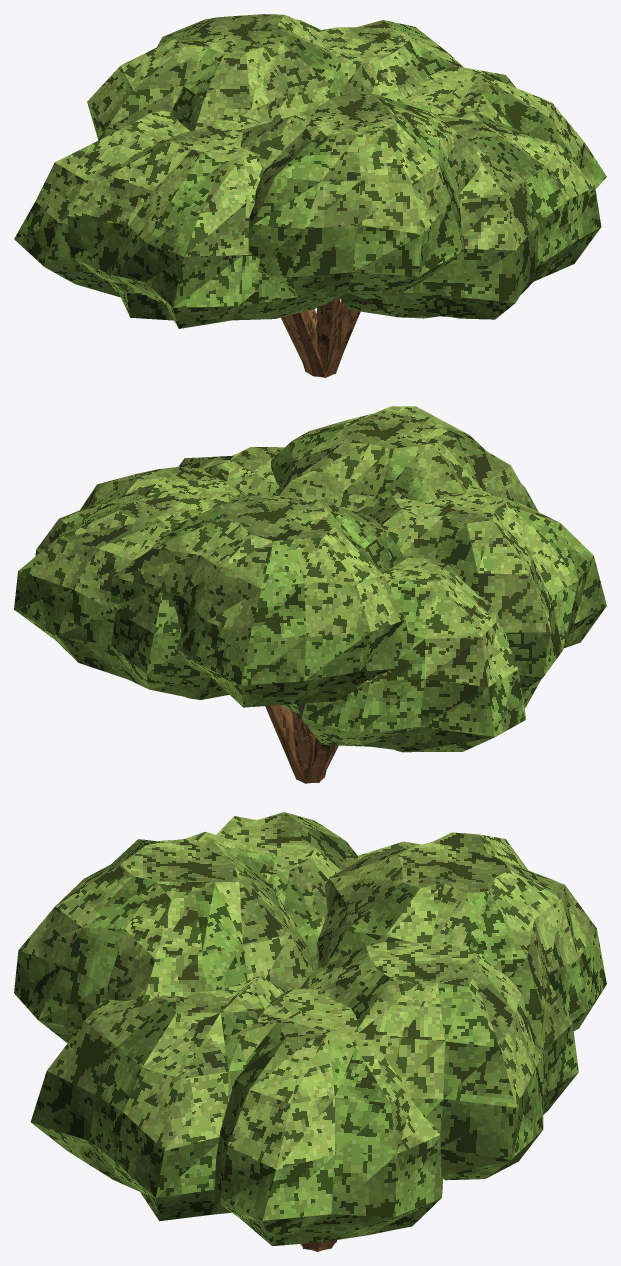
Rendered from holm_arrival_hazel_oldschool_v1.glb.
The picture shows the model from 3 angles, top to bottom: view 1: azimuth 30°, elevation 25°; view 2: azimuth 150°, elevation 25°; view 3: azimuth 270°, elevation 25°; orthographic projection. The views are drawn at different scales.
Visible parts, largest first — view 1: HazelLeaves, HazelStems; view 2: HazelLeaves, HazelStems; view 3: HazelLeaves.
Boxes of the visible parts, x1=… form: HazelLeaves: x1=14, y1=14, x2=606, y2=328; HazelStems: x1=281, y1=297, x2=360, y2=377; HazelLeaves: x1=14, y1=406, x2=606, y2=752; HazelStems: x1=265, y1=705, x2=338, y2=783; HazelLeaves: x1=14, y1=812, x2=606, y2=1245.
Size of the model in its own units: 2.43 by 1.41 by 2.06.
Materials: 4 (4 with a texture image).
